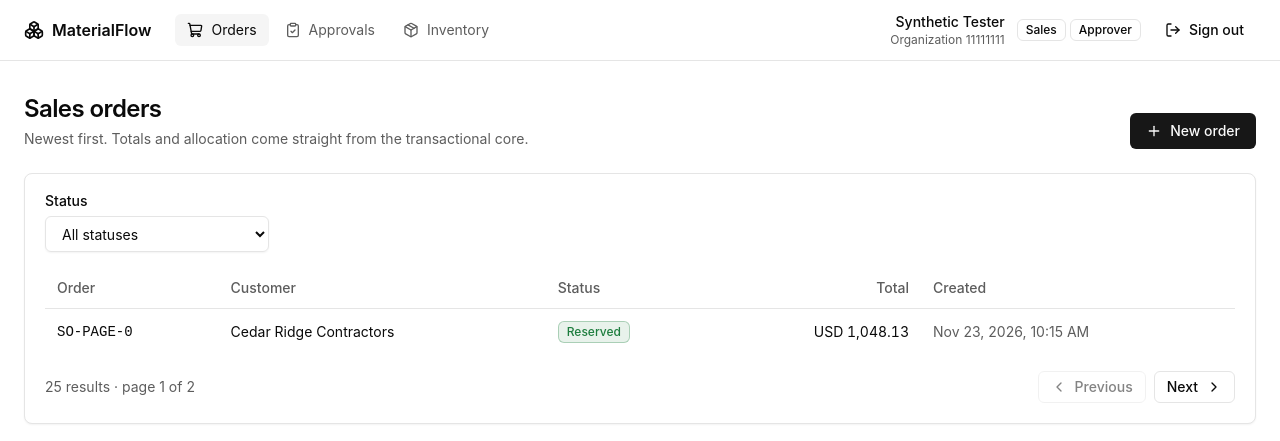
Test: OrderListPage › filters by status and pages through results via the URL
Check: the link "SO-PAGE-0" is shown, box [57, 324, 133, 340]
Select "Backordered" in the dropdown labelled "Status" at (157, 234), box [45, 216, 269, 252]
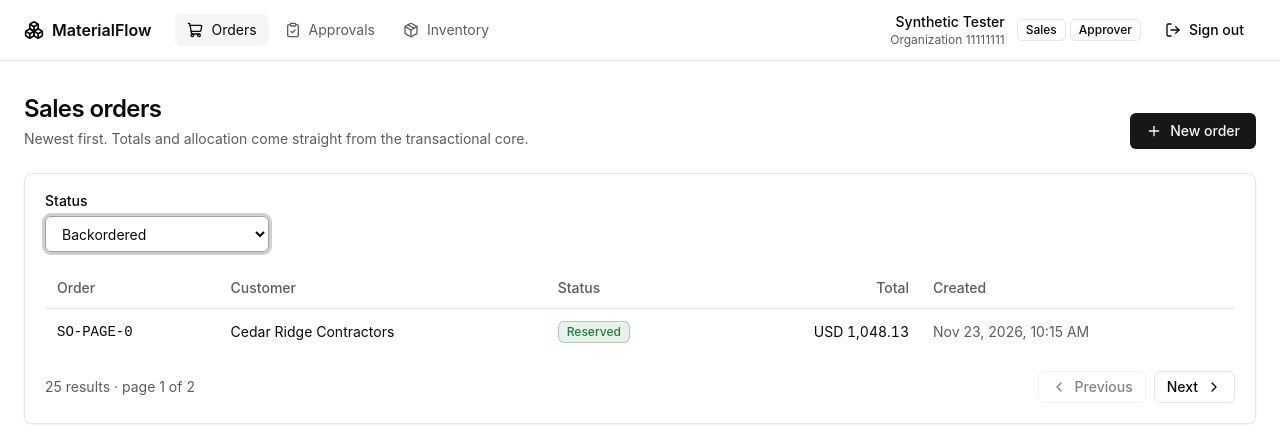
Check: the link "SO-PAGE-0" is shown, box [57, 324, 133, 340]
Click the button "Next" at (1194, 386), box [1154, 370, 1235, 402]
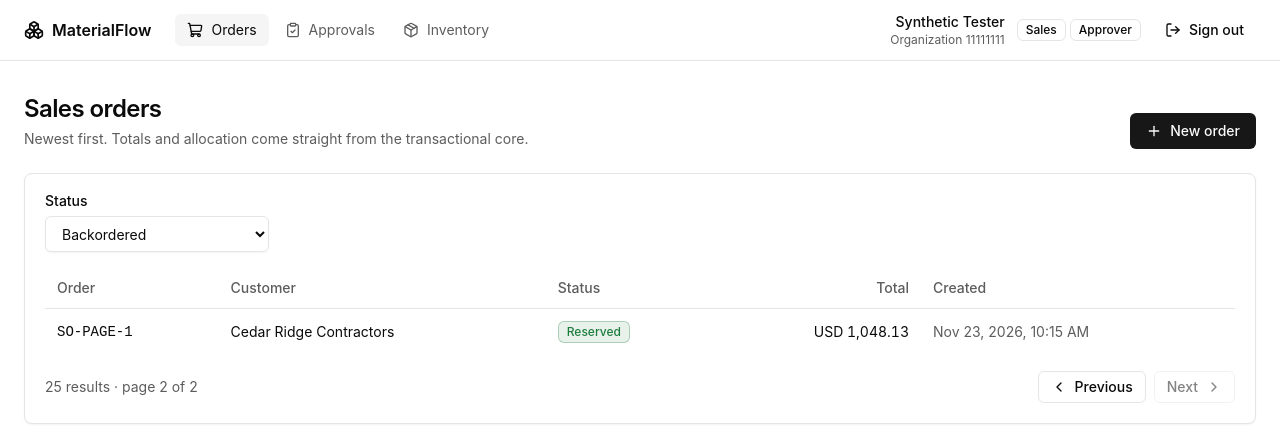
Check: the link "SO-PAGE-1" is shown, box [57, 324, 133, 340]
Check: the text "25 results · page 2 of 2" is shown, box [45, 376, 198, 396]
